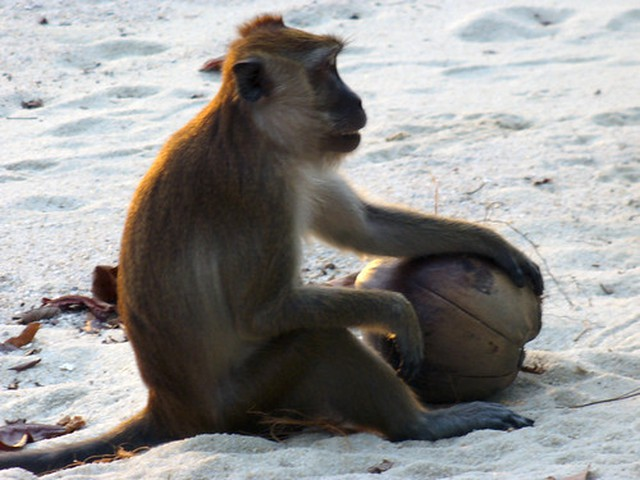Monkey: (110, 13, 436, 432)
